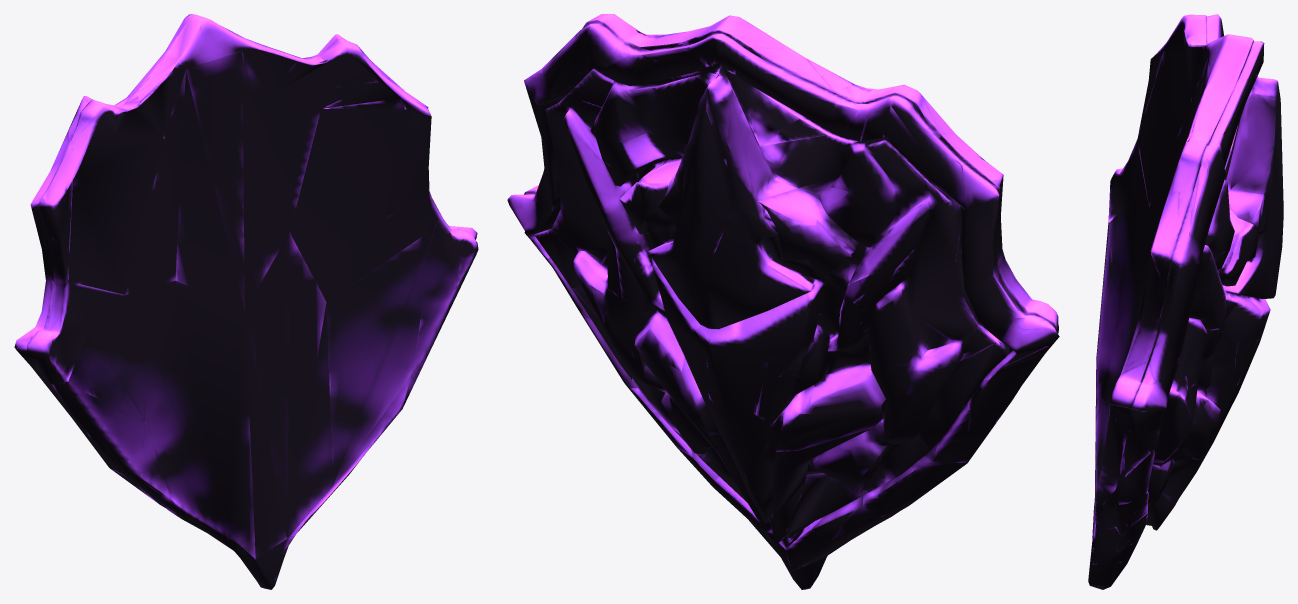
The model's file is Swordbag_low.glb.
3 renders of one model, left to right at view 1: azimuth 30°, elevation 25°; view 2: azimuth 150°, elevation 25°; view 3: azimuth 270°, elevation 25°, orthographic. The views are drawn at different scales.
Visible parts, largest first — view 1: Swordbag_low; view 2: Swordbag_low; view 3: Swordbag_low.
Part boxes in pixels (x1,y1,x2,y2): Swordbag_low: (14,14,478,589); Swordbag_low: (507,14,1059,589); Swordbag_low: (1088,14,1283,589).
Bounding box in the file's own units: 0.2965 × 0.3216 × 0.1029.
Materials: 1 (1 with a texture image).
